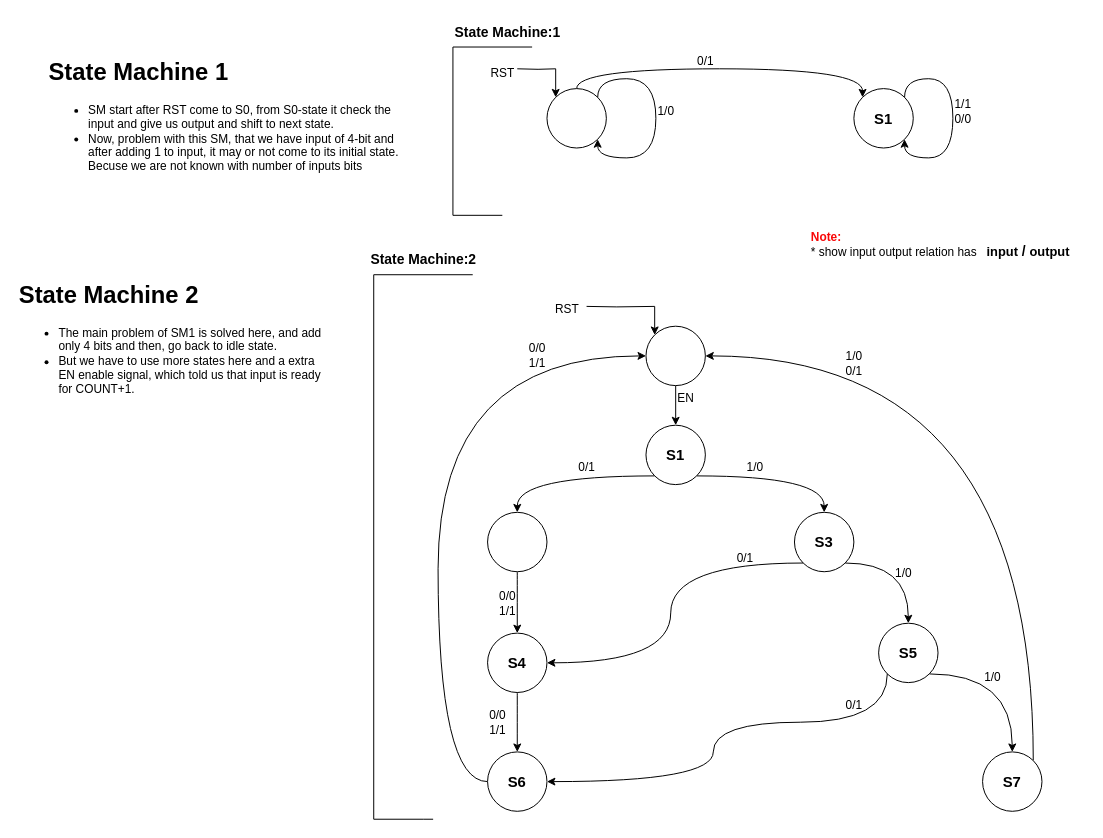
This 1103x838 diagram has some shape labels left out. Here are the shapes that lost their labels. From the top down, the centre of each, then its label:
At (576,118): "S0".
At (675,355): "IDLE".
At (517,541): "S2".
